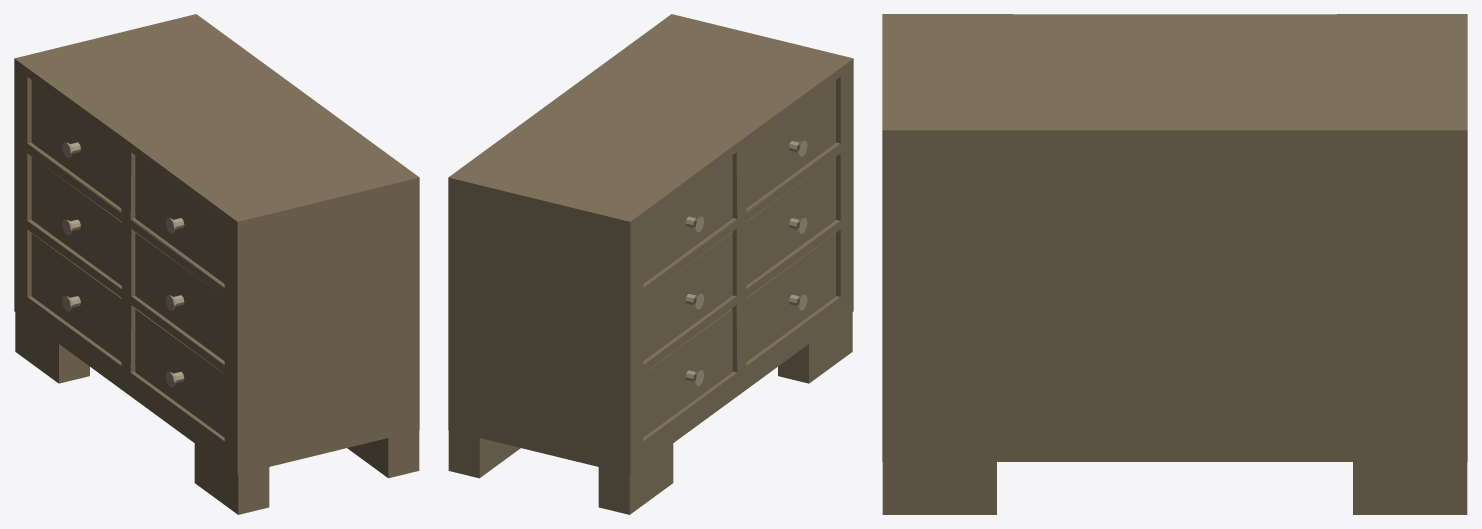
Rendered from bedRoom_drawer.fbx.
3 views of the same model, side by side, from view 1: azimuth 30°, elevation 25°; view 2: azimuth 150°, elevation 25°; view 3: azimuth 270°, elevation 25° (orthographic). The views are drawn at different scales.
Visible parts, largest first — view 1: Cube.018, Cube.021, Cube.016, Cube.017, Cube.015, Cube.023, Cube.019, Cube.024, Cube.008, Cube.014, Cube.012; view 2: Cube.018, Cube.021, Cube.016, Cube.015, Cube.019, Cube.017, Cube.024, Cube.023, Cube.014, Cube.008, Cube.013; view 3: Cube.021, Cube.018, Cube.012, Cube.013.
Part boxes in pixels (x1,y1,x2,y2): Cube.018: (14,14,419,297); Cube.021: (14,134,419,474); Cube.016: (31,233,121,361); Cube.017: (31,157,121,285); Cube.015: (135,308,224,437); Cube.023: (31,80,121,207); Cube.019: (135,232,224,360); Cube.024: (135,155,224,283); Cube.008: (194,443,269,514); Cube.014: (15,312,89,383); Cube.012: (347,430,419,478); Cube.018: (448,14,853,297); Cube.021: (448,134,853,474); Cube.016: (643,309,732,437); Cube.015: (746,233,835,361); Cube.019: (746,157,835,285); Cube.017: (643,232,732,360); Cube.024: (746,80,835,207); Cube.023: (643,155,732,283); Cube.014: (598,443,673,514); Cube.008: (778,312,852,383); Cube.013: (448,430,520,478); Cube.021: (882,230,1467,461); Cube.018: (882,14,1467,230); Cube.012: (882,462,996,514); Cube.013: (1353,462,1467,514).
Bounding box in the file's own units: 83.81 × 123 × 170.
